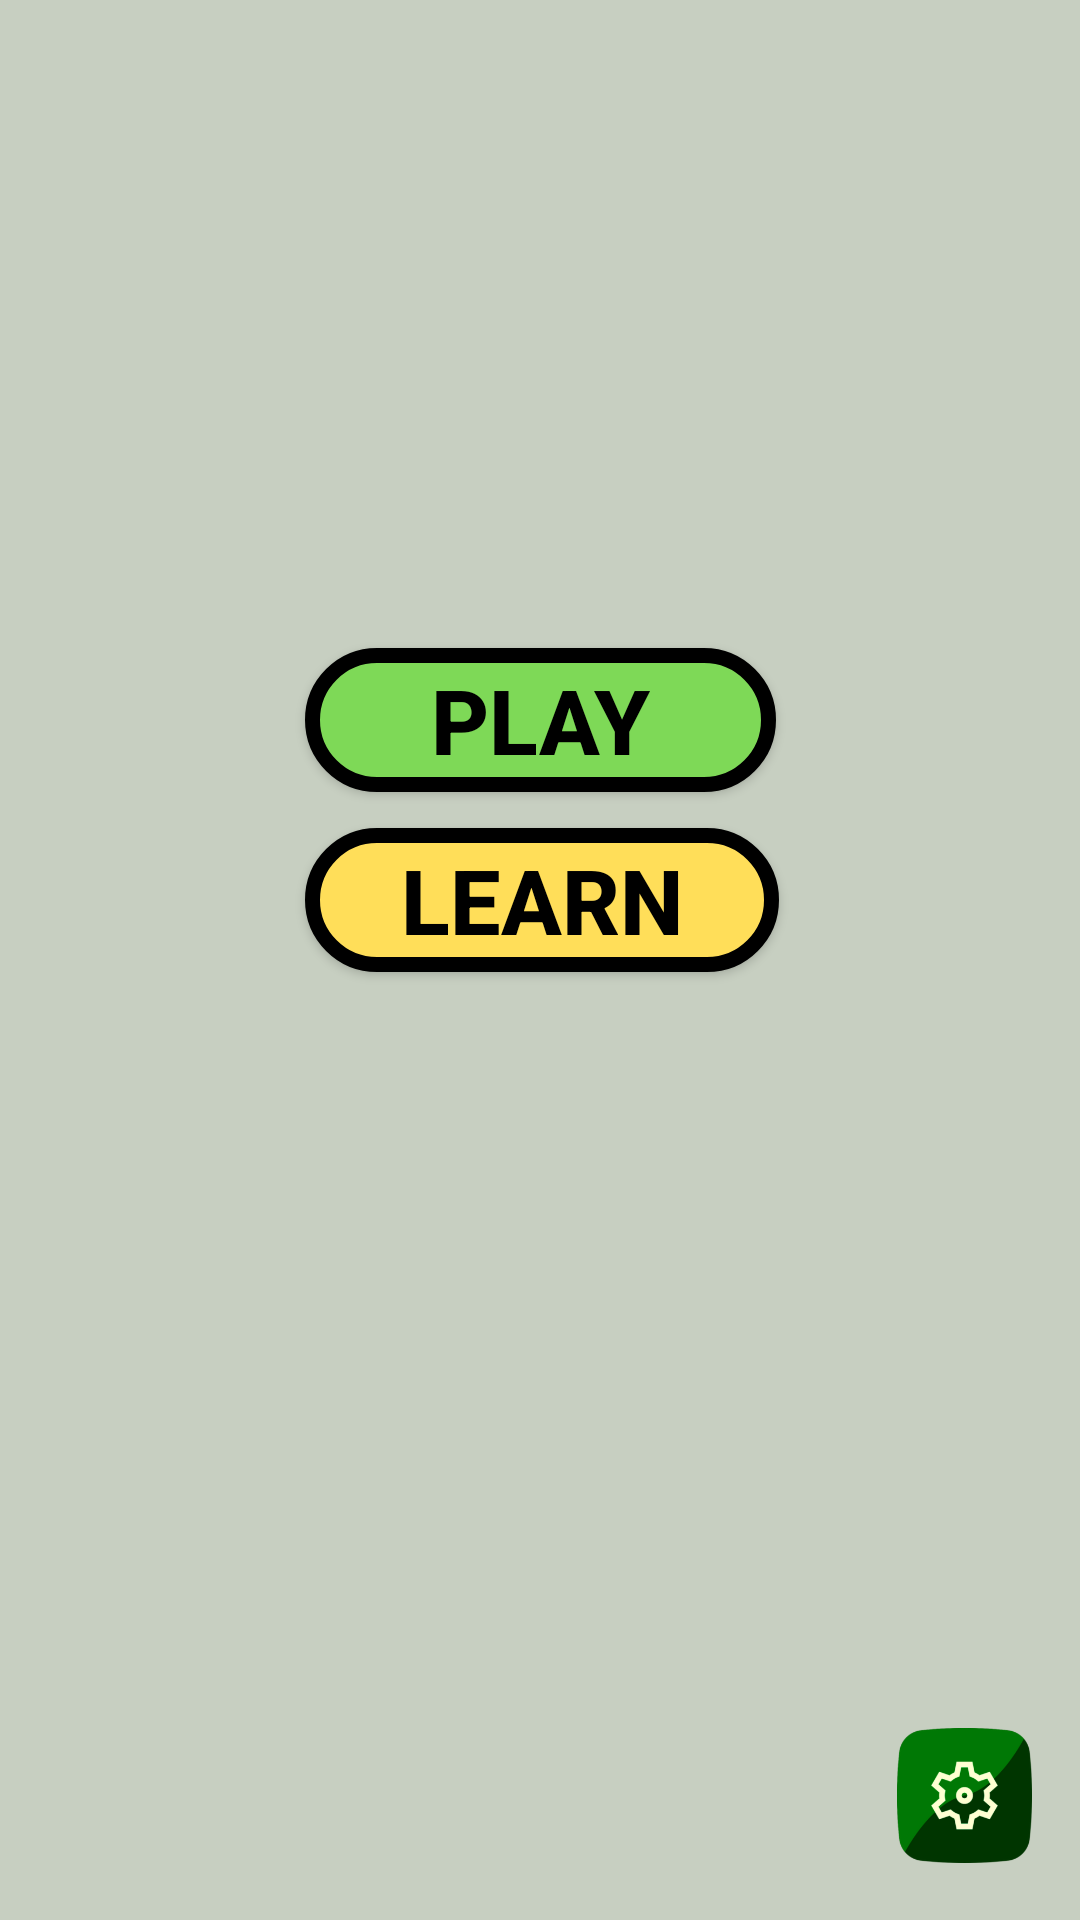

Icons on this 1080 × 1920 Android screen, each with its box as (left=x1, top=y1, right=x2, bottom=y2):
settings: (left=897, top=1728, right=1032, bottom=1863)
